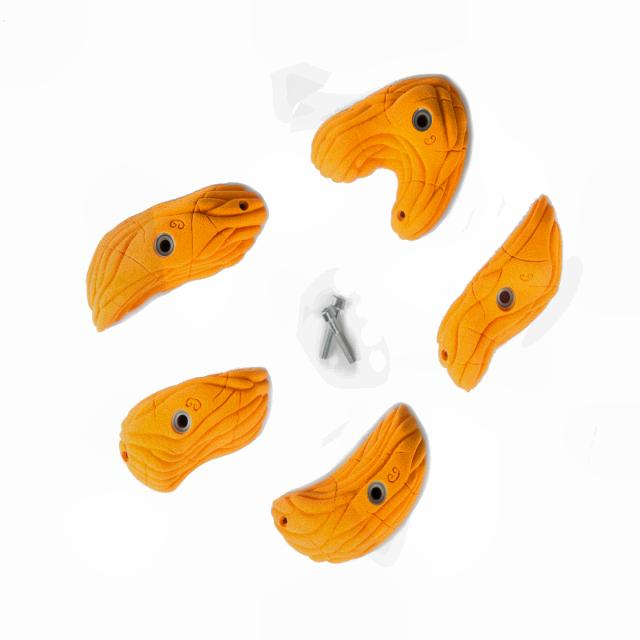Hold: (312, 75, 474, 245), (90, 177, 266, 331), (276, 408, 432, 567), (437, 198, 563, 392), (119, 369, 275, 495)
